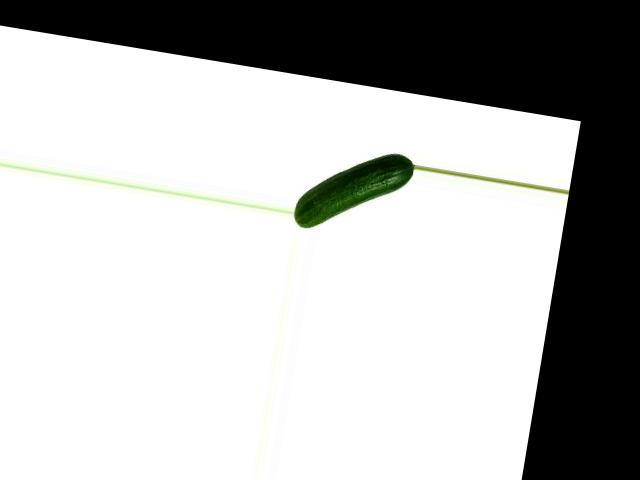cucumber: (291, 138, 417, 243)
